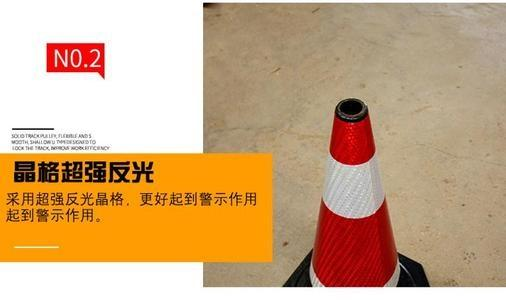cone_barrel: (297, 97, 410, 288)
